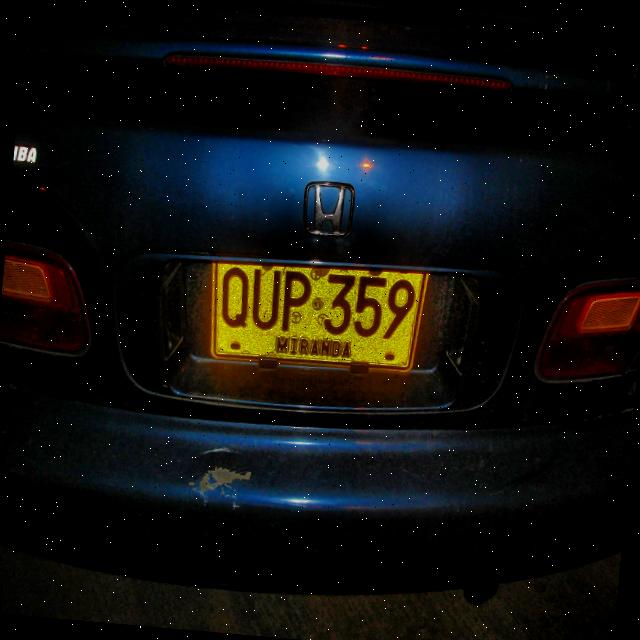plate: (210, 262, 428, 372)
